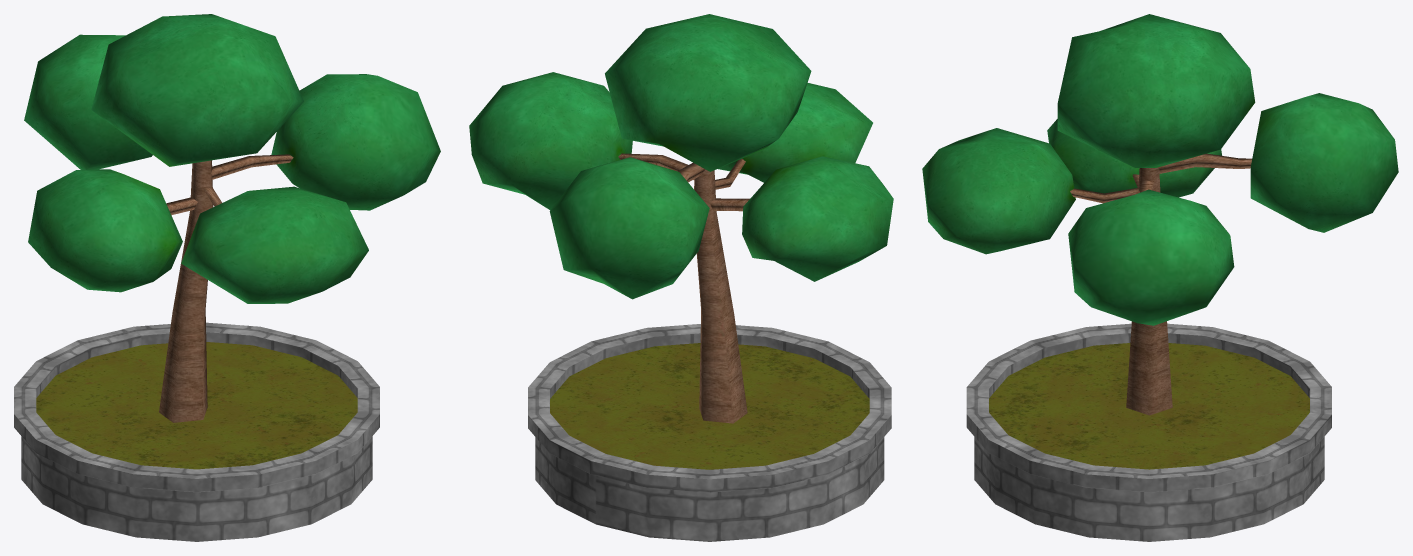
Rendered from Arbre.FBX.
The picture shows the model from 3 angles, left to right: view 1: azimuth 30°, elevation 25°; view 2: azimuth 150°, elevation 25°; view 3: azimuth 270°, elevation 25°; orthographic projection.
Visible parts, largest first — view 1: Arbre, Cylinder079; view 2: Arbre, Cylinder079; view 3: Arbre, Cylinder079.
Boxes of the visible parts, x1,y1,x2,y2 form: Arbre: (24, 14, 440, 422); Cylinder079: (14, 322, 379, 541); Arbre: (469, 14, 893, 423); Cylinder079: (528, 324, 891, 541); Arbre: (922, 14, 1398, 415); Cylinder079: (966, 323, 1331, 541).
Size of the model in its own units: 303 by 327 by 321.
Materials: 2 (2 with a texture image).
